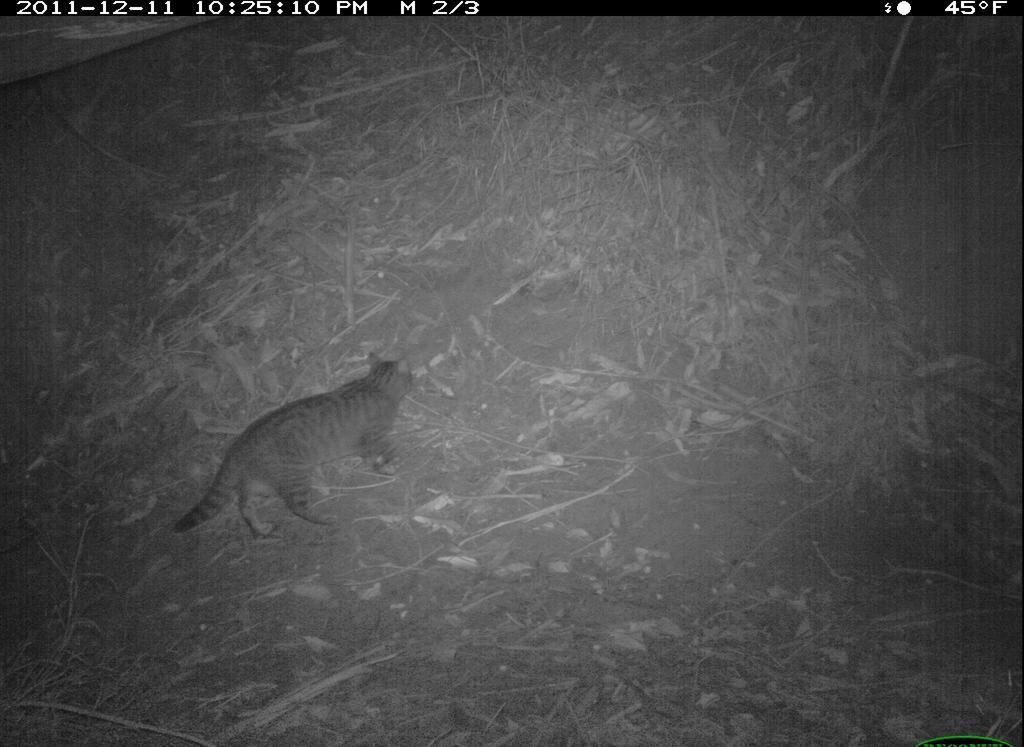cat: (168, 347, 419, 548)
